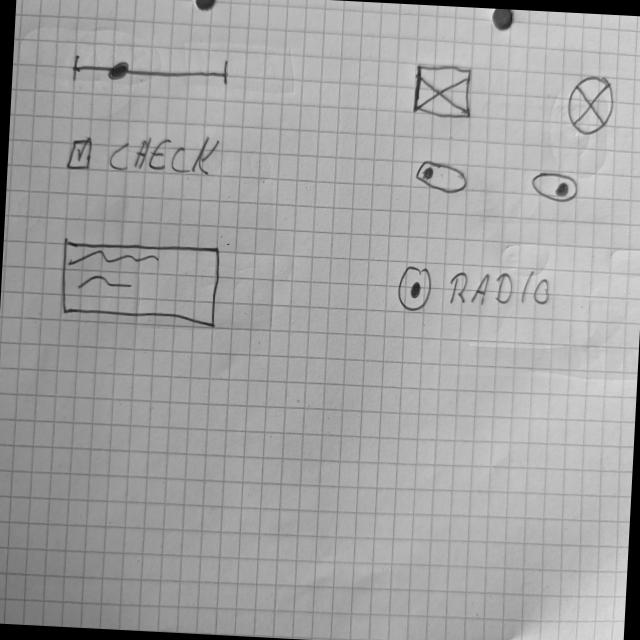checkbox: (62, 126, 224, 182)
image: (410, 61, 476, 121), (564, 73, 616, 138)
radio: (394, 259, 552, 323)
slider: (66, 47, 236, 95)
textarea: (58, 236, 222, 328)
toggle: (413, 158, 470, 196), (530, 170, 580, 203)
